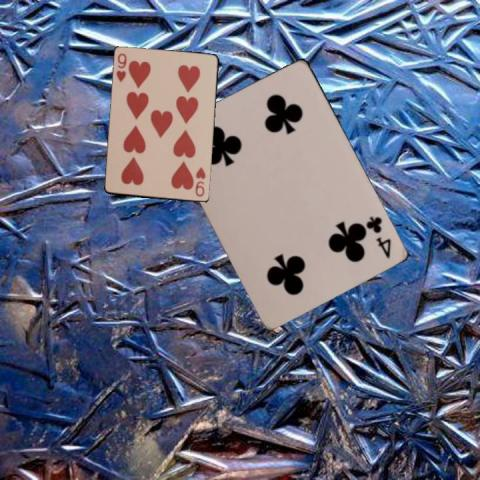4c: (364, 214, 393, 260)
9h: (113, 51, 128, 84), (192, 164, 206, 198)
